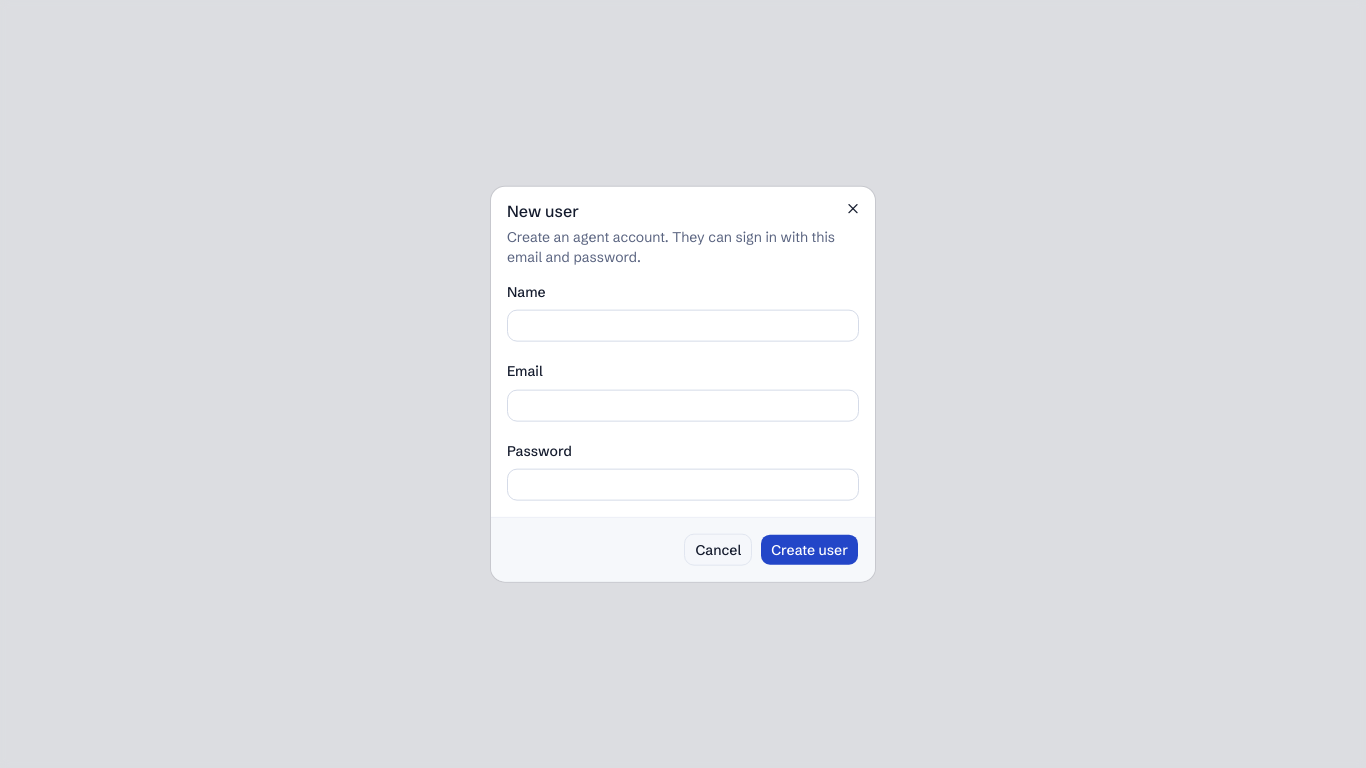
Scenario: UserForm (new user) › shows required-field errors and doesn't submit an empty form
Expected: the dialog "New user" is shown, [491,187,875,581]
Click the button "Create user" at (810, 549), box [760,533,859,565]
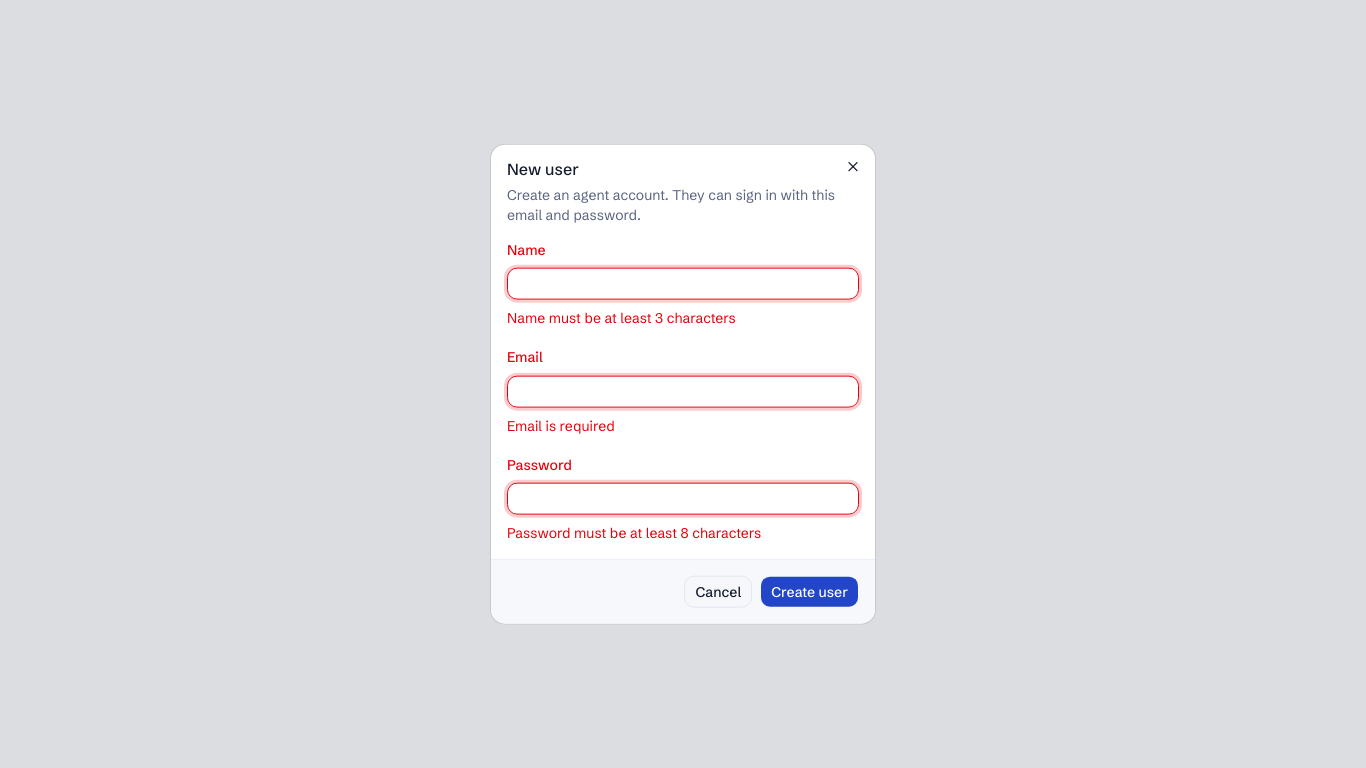
Expected: the text "Name must be at least 3 characters" is shown, [507,309,736,327]
Expected: the text "Email is required" is shown, [507,416,615,434]
Expected: the text "Password must be at least 8 characters" is shown, [507,523,761,541]
